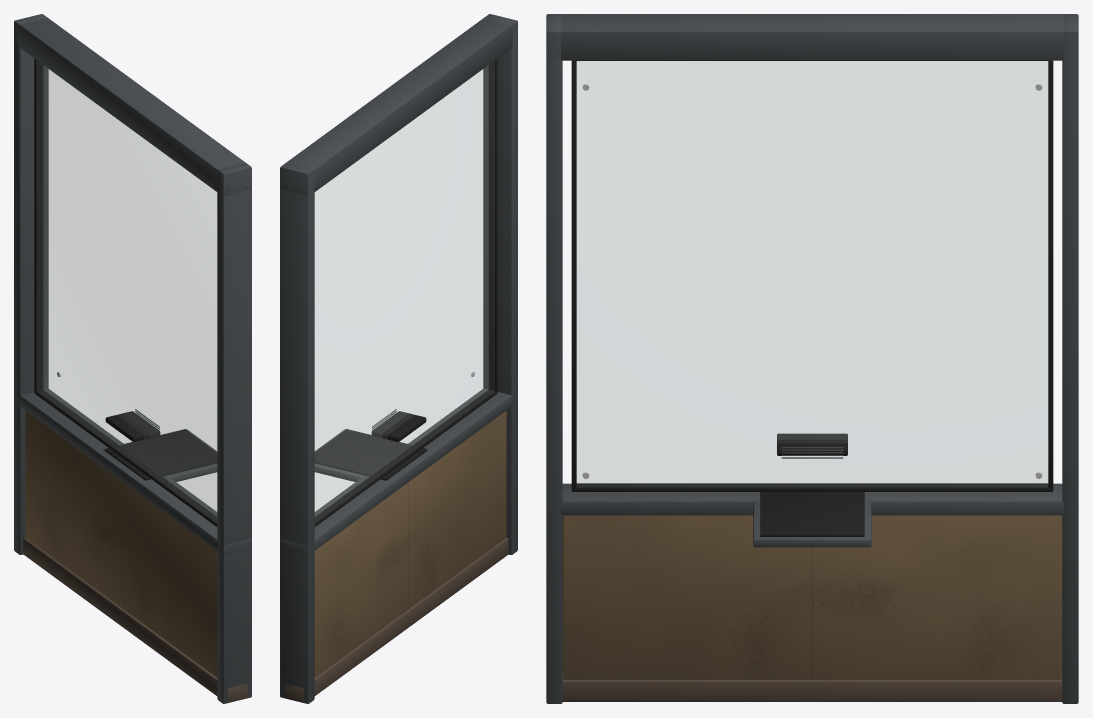
Rendered from outpost_glass_counter.glb.
3 renders of one model, left to right at view 1: azimuth 30°, elevation 25°; view 2: azimuth 150°, elevation 25°; view 3: azimuth 270°, elevation 25°, orthographic. The views are drawn at different scales.
Visible parts, largest first — view 1: glass, dado, endpost, endpost.001, header, sill, cove, gasket.002, traybed, gasket.001, grille, tray; view 2: glass, dado, endpost.001, endpost, header, sill, cove, gasket.003, traybed, gasket.001, grille, tray; view 3: glass, dado, header, endpost, endpost.001, cove, sill, traybed, gasket.001, gasket.002, gasket.003, tray (+1 smaller).
Boxes of the visible parts, x1,y1,x2,y2 form: glass: (37,61,216,521); dado: (25,410,217,677); endpost: (217,163,251,703); endpost.001: (14,14,48,554); header: (14,17,251,195); sill: (14,388,251,554); cove: (23,537,247,702); gasket.002: (34,58,43,392); traybed: (104,429,217,480); gasket.001: (34,390,217,526); grille: (105,411,160,441); tray: (100,429,217,482); glass: (315,61,494,521); dado: (314,410,506,677); endpost.001: (280,163,314,703); endpost: (483,14,517,554); header: (280,17,512,195); sill: (280,388,517,554); cove: (284,537,508,702); gasket.003: (488,58,497,392); traybed: (314,429,427,480); gasket.001: (314,390,497,526); grille: (371,411,426,441); tray: (314,429,431,482); glass: (577,61,1047,486); dado: (562,515,1062,679); header: (547,14,1078,60); endpost: (546,14,562,703); endpost.001: (1062,14,1078,703); cove: (562,678,1062,701); sill: (547,483,1076,515); traybed: (760,492,864,536); gasket.001: (572,483,1052,491); gasket.002: (1048,60,1053,491); gasket.003: (571,60,576,491); tray: (753,500,871,547).
Bounding box in the file's own units: 0.565 × 3.14 × 2.25.
6 materials, 1 textured.
